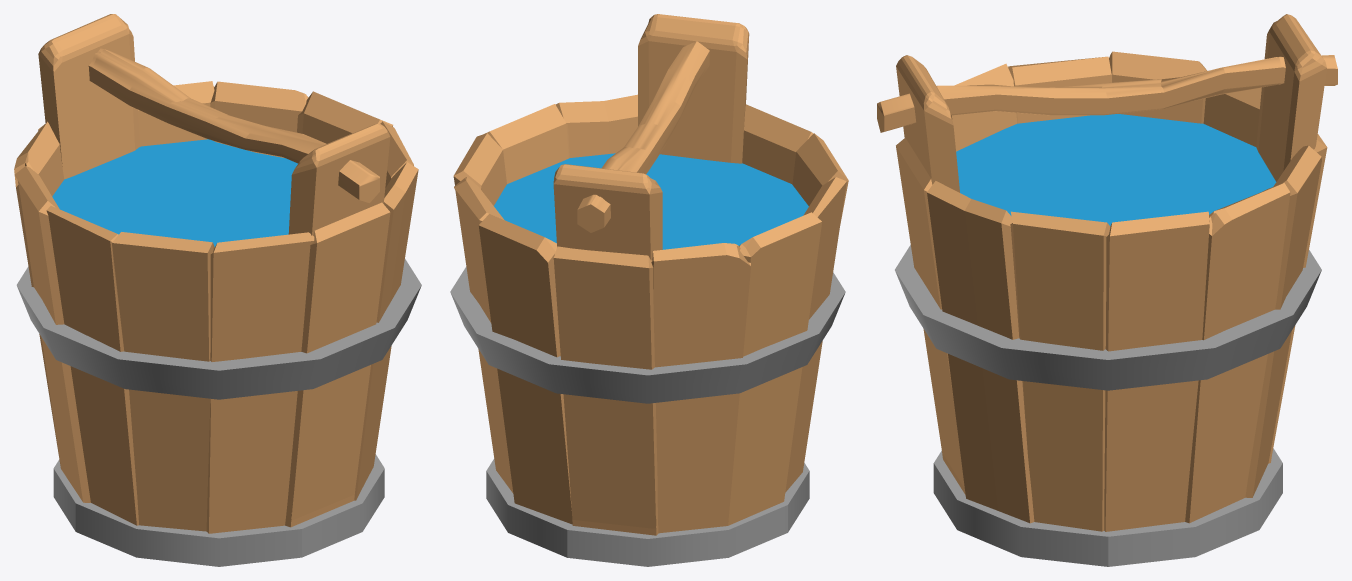
The model's file is bucket low poly .fbx.
The picture shows the model from 3 angles, left to right: view 1: azimuth 30°, elevation 25°; view 2: azimuth 150°, elevation 25°; view 3: azimuth 270°, elevation 25°; orthographic projection. The views are drawn at different scales.
Visible parts, largest first — view 1: bucket, water, metal part middle, metal base, stick; view 2: bucket, metal part middle, water, metal base, stick; view 3: bucket, water, metal part middle, metal base, stick.
Boxes of the visible parts, box(x1,y1,x2,y2) form: bucket: box(14, 14, 418, 533); water: box(52, 139, 297, 246); metal part middle: box(16, 259, 421, 399); metal base: box(53, 454, 384, 566); stick: box(88, 48, 379, 202); bucket: box(453, 14, 848, 535); metal part middle: box(450, 267, 845, 403); water: box(494, 153, 808, 249); metal base: box(486, 458, 809, 566); stick: box(577, 41, 709, 232); bucket: box(896, 14, 1327, 531); water: box(956, 114, 1276, 225); metal part middle: box(895, 245, 1321, 390); metal base: box(933, 448, 1282, 566); stick: box(877, 55, 1337, 132).
Bounding box in the file's own units: 213 × 239 × 227.
